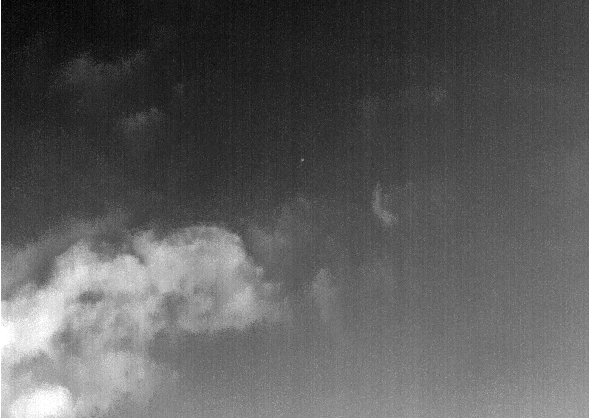dim target: (299, 157, 305, 163)
